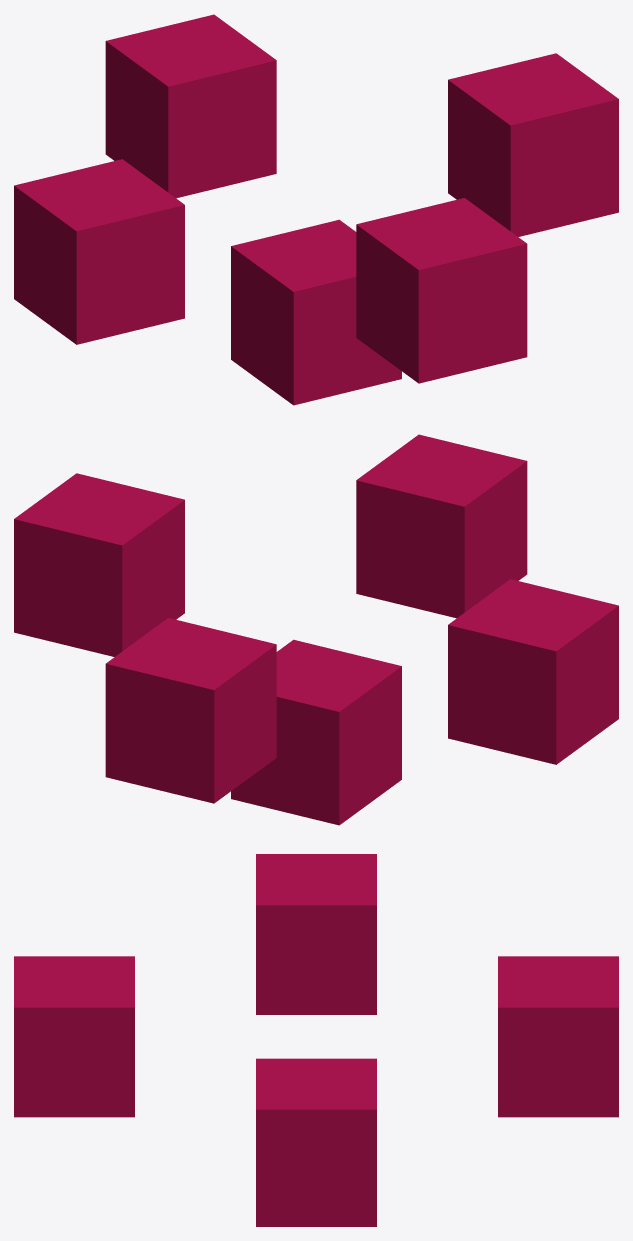
File: foguete-vermelho.obj
The picture shows the model from 3 angles, top to bottom: view 1: azimuth 30°, elevation 25°; view 2: azimuth 150°, elevation 25°; view 3: azimuth 270°, elevation 25°; orthographic projection. The views are drawn at different scales.
Bounding box in the file's own units: 0.5 × 0.2 × 0.5.
Materials: 1 (1 with a texture image).
